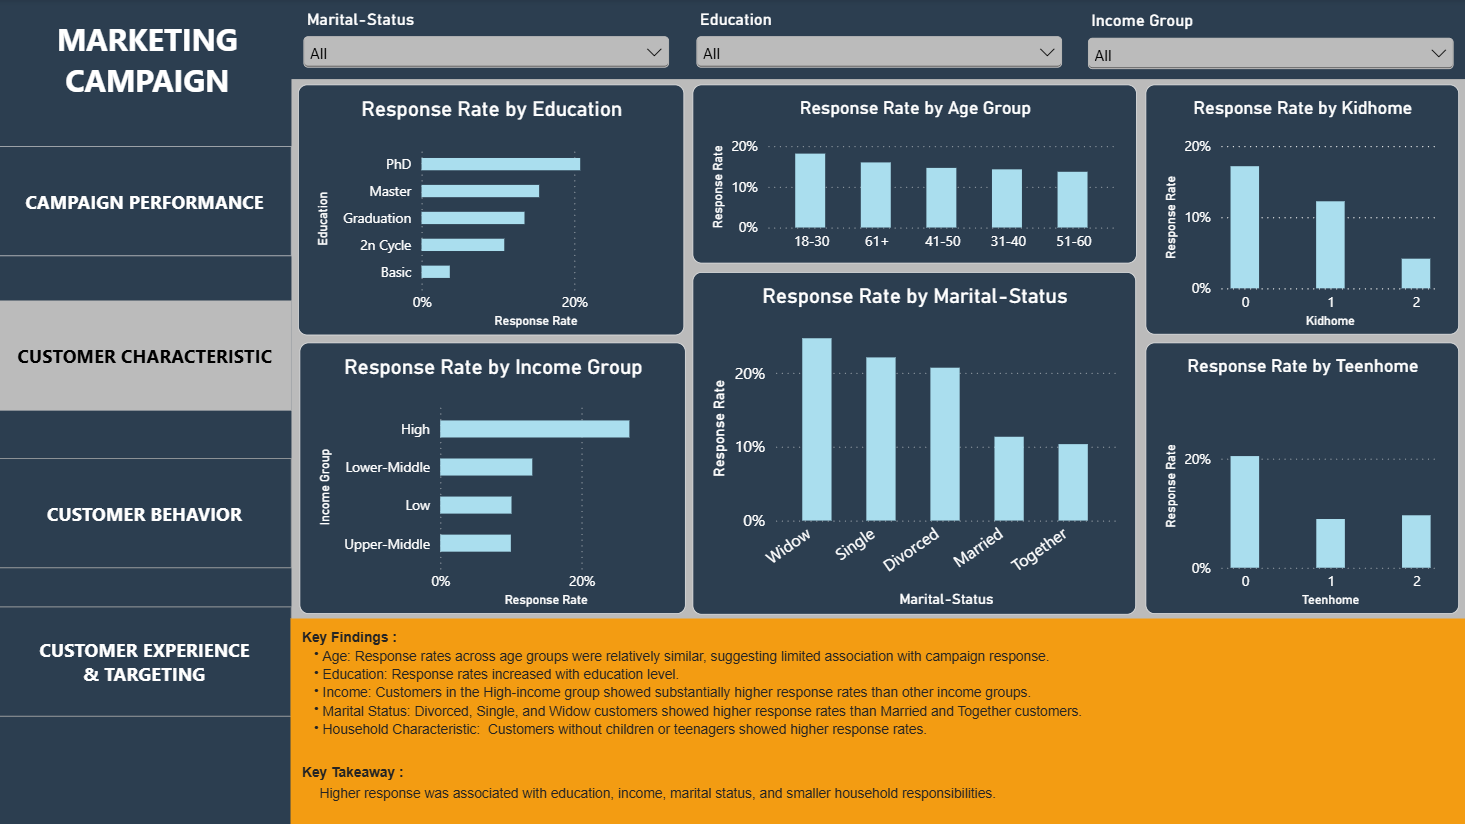

This screenshot's page, from the dashboard's own definition file:
{"tool":"powerbi","page":{"name":"Customer Characteristic","canvas":[1280,720],"ordinal":1},"visuals":[{"type":"shape","box":[255,0,1025,70],"z":0},{"type":"slicer","fields":{"Values":["marketing_campaign_cleaned.Income Group"]},"box":[940,10.6,333.3,56.7],"z":1000},{"type":"shape","box":[0,0,256,720],"z":2000},{"type":"textbox","box":[0,16.7,260,96.7],"z":3000},{"type":"textbox","box":[0,128.3,256,96],"z":4000},{"type":"textbox","box":[0,263.3,256,96],"z":5000},{"type":"textbox","box":[0,400,256,96],"z":6000},{"type":"textbox","box":[0,530,256,96],"z":7000},{"type":"columnChart","title":"Response Rate by Marital-Status","fields":{"Category":["marketing_campaign_cleaned.Marital_Status"],"Y":["marketing_campaign_cleaned.Response Rate"]},"box":[605.3,238,386.7,298.7],"z":8000},{"type":"textbox","box":[255,540,1025,180],"z":9000},{"type":"slicer","fields":{"Values":["marketing_campaign_cleaned.Marital_Status"]},"box":[256.7,8.9,333.3,60],"z":10000},{"type":"slicer","fields":{"Values":["marketing_campaign_cleaned.Education"]},"box":[598.3,8.9,333.3,60],"z":11000},{"type":"columnChart","title":"Response Rate by Age Group","fields":{"Y":["marketing_campaign_cleaned.Response Rate"],"Category":["marketing_campaign_cleaned.Age Group"]},"box":[605,75,387,156],"z":12000},{"type":"barChart","title":"Response Rate by Income Group","fields":{"Category":["marketing_campaign_cleaned.Income Group"],"Y":["marketing_campaign_cleaned.Response Rate"]},"box":[262.7,300,336.7,236.7],"z":13000},{"type":"barChart","title":"Response Rate by Education","fields":{"Y":["marketing_campaign_cleaned.Response Rate"],"Category":["marketing_campaign_cleaned.Education"]},"box":[261.7,75,336.7,218.3],"z":14000},{"type":"columnChart","title":"Response Rate by Teenhome","fields":{"Y":["marketing_campaign_cleaned.Response Rate"],"Category":["marketing_campaign_cleaned.Teenhome"]},"box":[1000,300,273.3,236.7],"z":15000},{"type":"columnChart","title":"Response Rate by Kidhome","fields":{"Y":["marketing_campaign_cleaned.Response Rate"],"Category":["marketing_campaign_cleaned.Kidhome"]},"box":[1000,75,273,218],"z":16000},{"type":"actionButton","box":[0,127.7,255.3,95.4],"z":17000},{"type":"actionButton","box":[0,399.1,255.3,95.4],"z":18000},{"type":"actionButton","box":[0,529.7,255.3,95.4],"z":19000}]}

Visuals, with their boxes in screenshot pixels (x1, y1, x2, y2), scaled from the page's 1280x720 canvas onto the 1465x824 screenshot:
shape: 292 0 1464 80
slicer - marketing_campaign_cleaned.Income Group: 1076 12 1457 77
shape: 0 0 293 823
textbox: 0 19 298 130
textbox: 0 147 293 257
textbox: 0 301 293 411
textbox: 0 458 293 568
textbox: 0 607 293 716
"Response Rate by Marital-Status" columnChart: 693 272 1135 614
textbox: 292 618 1464 823
slicer - marketing_campaign_cleaned.Marital_Status: 294 10 675 79
slicer - marketing_campaign_cleaned.Education: 685 10 1066 79
"Response Rate by Age Group" columnChart: 692 86 1135 264
"Response Rate by Income Group" barChart: 301 343 686 614
"Response Rate by Education" barChart: 300 86 685 336
"Response Rate by Teenhome" columnChart: 1145 343 1457 614
"Response Rate by Kidhome" columnChart: 1145 86 1457 335
actionButton: 0 146 292 255
actionButton: 0 457 292 566
actionButton: 0 606 292 715
